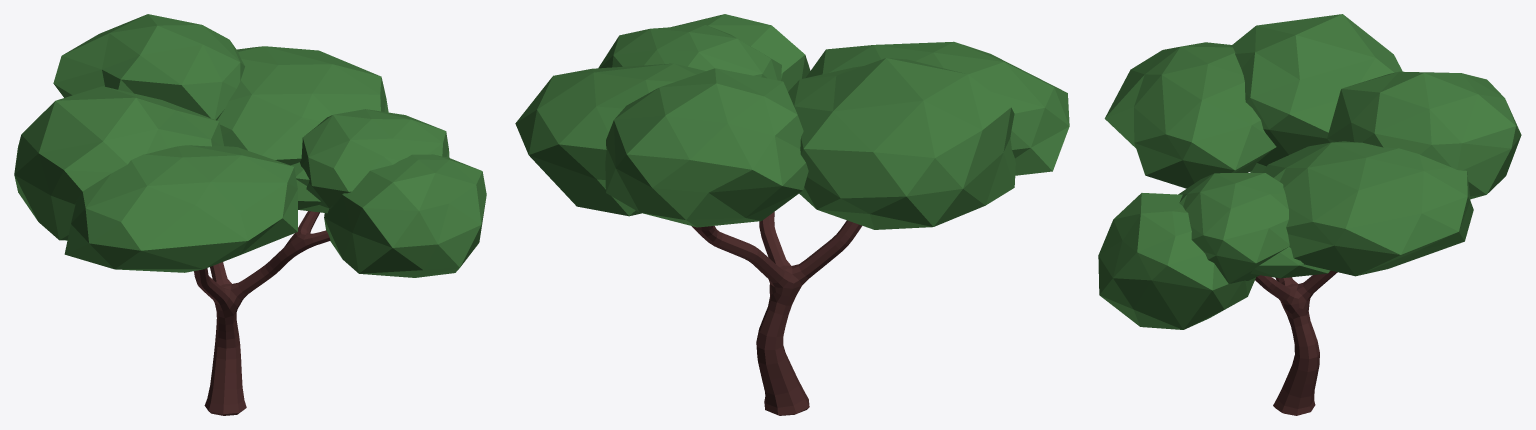
File: LightTree.fbx
The picture shows the model from 3 angles, left to right: view 1: azimuth 30°, elevation 25°; view 2: azimuth 150°, elevation 25°; view 3: azimuth 270°, elevation 25°; orthographic projection. The views are drawn at different scales.
Parts seen in each view (by area): view 1: Icosphere.002, Plane.001; view 2: Icosphere.002, Plane.001; view 3: Icosphere.002, Plane.001.
Boxes of the visible parts, x1,y1,x2,y2 form: Icosphere.002: (14,14,486,277); Plane.001: (194,211,330,415); Icosphere.002: (515,14,1069,229); Plane.001: (691,212,861,415); Icosphere.002: (1098,14,1521,329); Plane.001: (1255,270,1337,415).
Bounding box in the file's own units: 1259 × 1017 × 1165.
